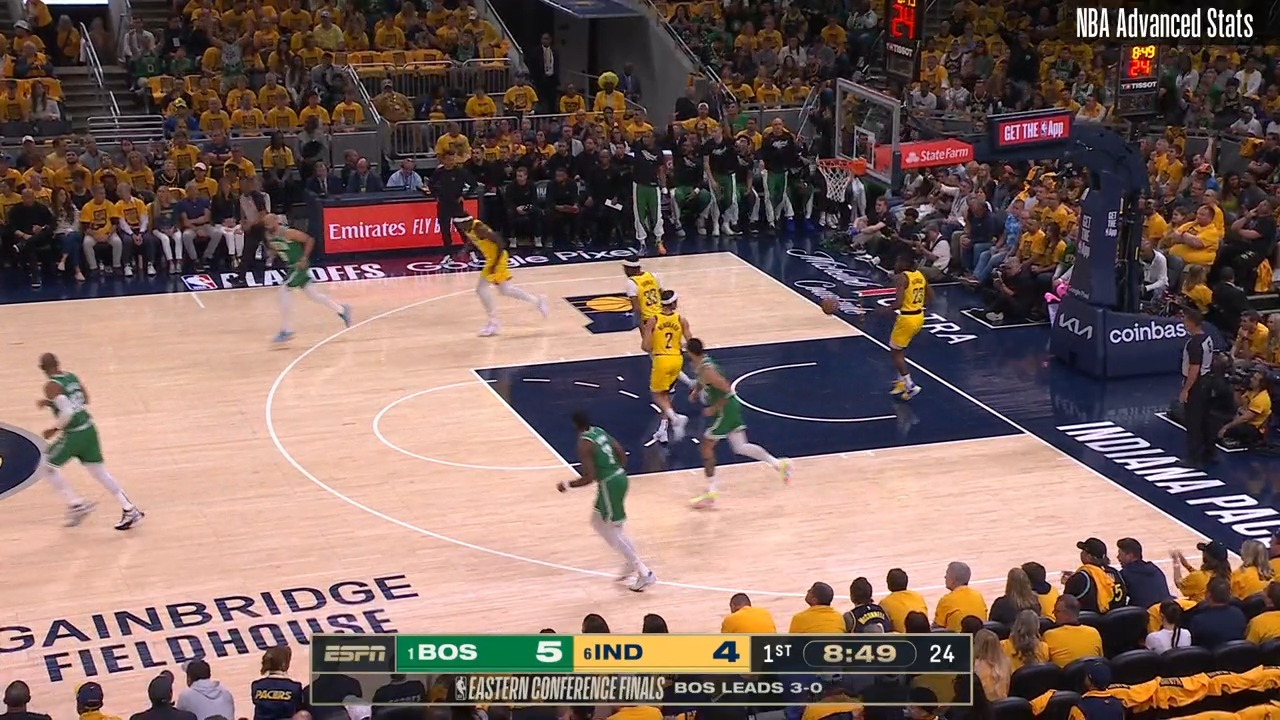basketball: (818, 291, 842, 317)
